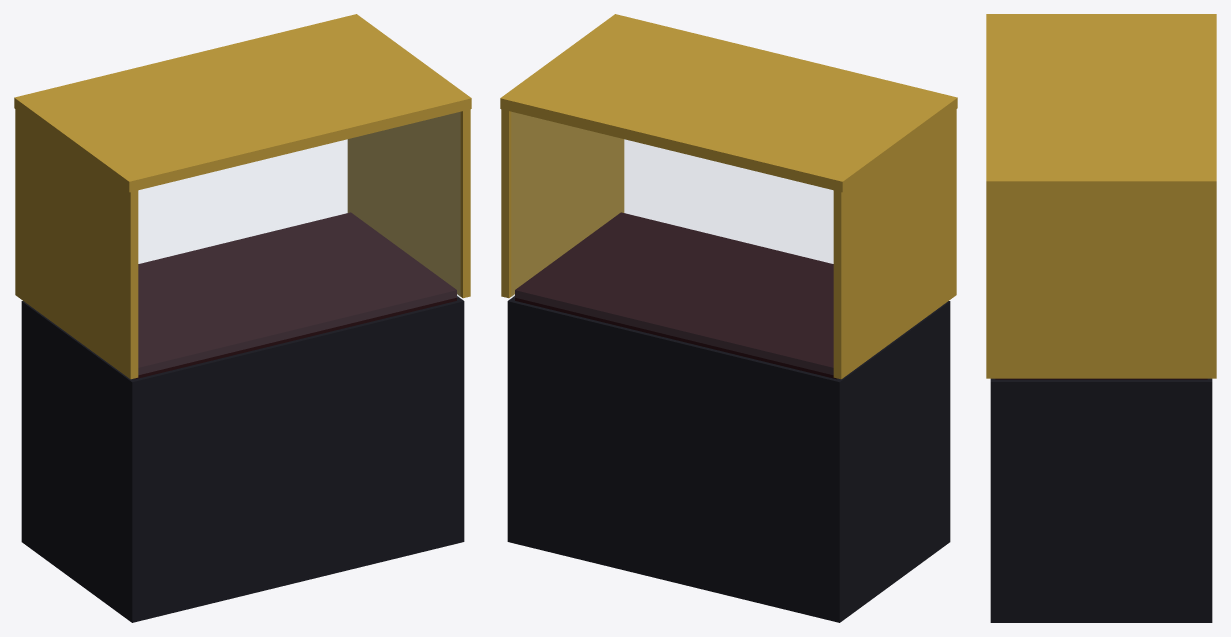
File: frostbox_display_case.glb
3 views of the same model, side by side, from view 1: azimuth 30°, elevation 25°; view 2: azimuth 150°, elevation 25°; view 3: azimuth 270°, elevation 25° (orthographic).
Parts seen in each view (by area): view 1: frostbox_display_case; view 2: frostbox_display_case; view 3: frostbox_display_case.
Part boxes in pixels (x1=…): frostbox_display_case: x1=14, y1=14, x2=471, y2=622; frostbox_display_case: x1=500, y1=14, x2=957, y2=622; frostbox_display_case: x1=986, y1=14, x2=1216, y2=622.
Bounding box in the file's own units: 1.34 × 1.66 × 0.78.
